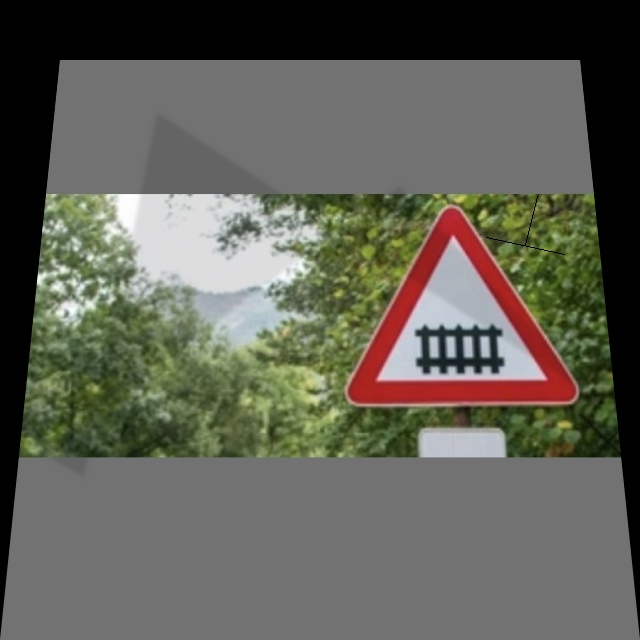Guarded_Level_Crossing: (350, 207, 582, 408)
